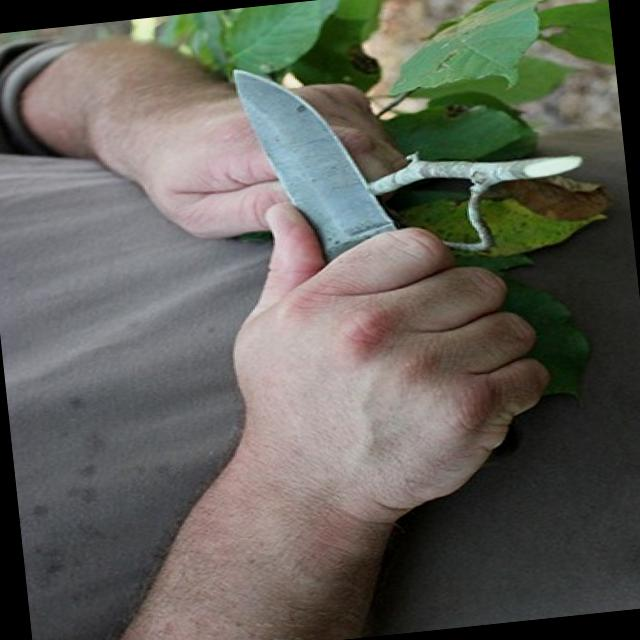knife: (222, 33, 540, 391)
